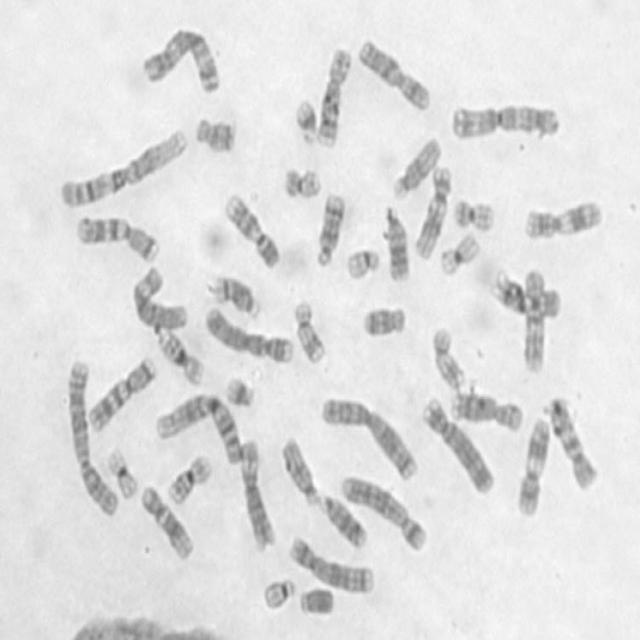A1: (58, 127, 188, 210), (154, 392, 243, 468)
A2: (64, 356, 120, 520), (321, 396, 419, 484)
A3: (141, 24, 222, 94), (448, 99, 562, 145)
B4: (420, 395, 498, 498), (203, 306, 295, 365)
B5: (339, 472, 428, 554), (286, 534, 375, 594)
C10: (546, 394, 600, 494), (522, 264, 547, 374)
C11: (515, 417, 550, 519), (523, 200, 603, 242)
C12: (139, 482, 195, 562), (412, 165, 454, 262)
C6: (239, 439, 277, 556), (130, 263, 188, 332)
C7: (87, 355, 156, 434), (72, 212, 164, 266)
C8: (316, 46, 352, 152), (449, 391, 525, 434)
C9: (222, 191, 283, 272), (490, 268, 565, 319)
D13: (316, 490, 369, 550), (383, 204, 411, 284)
D14: (212, 273, 262, 322), (315, 191, 345, 268)
D15: (390, 133, 442, 201), (280, 434, 321, 508)
E16: (157, 329, 206, 388), (165, 453, 212, 508)
E17: (430, 326, 468, 392), (292, 299, 328, 367)
E18: (192, 114, 240, 155), (361, 304, 408, 342)
F19: (437, 230, 484, 278), (106, 445, 138, 502)
F20: (451, 198, 495, 235), (283, 167, 323, 200)
G21: (294, 98, 319, 146), (225, 374, 256, 410)
G22: (262, 577, 296, 612), (347, 248, 380, 282)
X: (357, 38, 431, 114)
Y: (298, 586, 336, 618)
